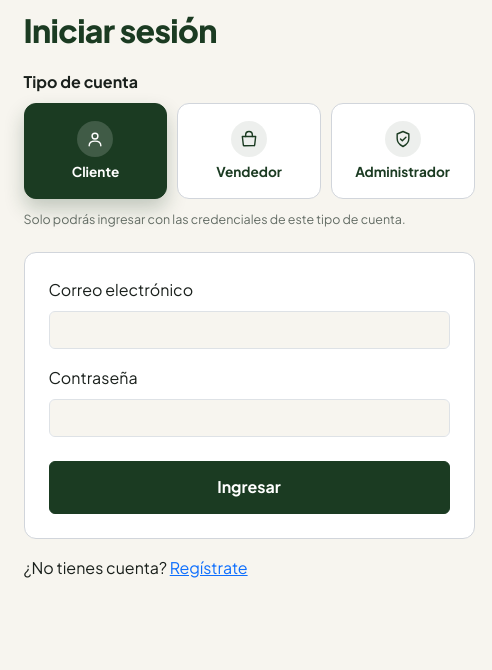
Test: Login › exige correo y contraseña antes de llamar a la API
The width and height of the screenshot is (492, 670).
Click the button "Ingresar".
click(249, 487)  # box [48, 461, 450, 514]
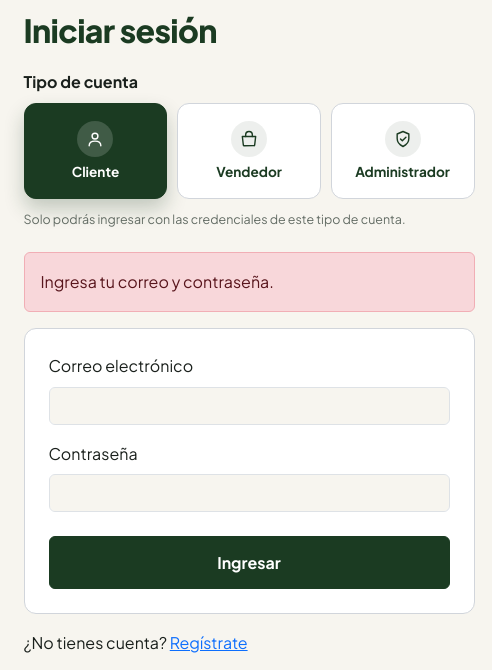
Expected: the message reads "Ingresa tu correo y contraseña.", [40, 272, 274, 292]
